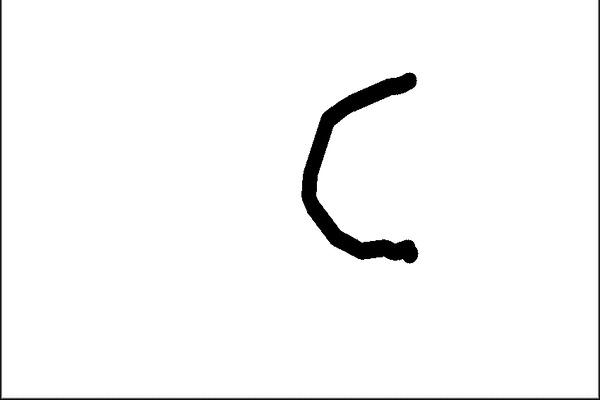C: (296, 67, 428, 264)
